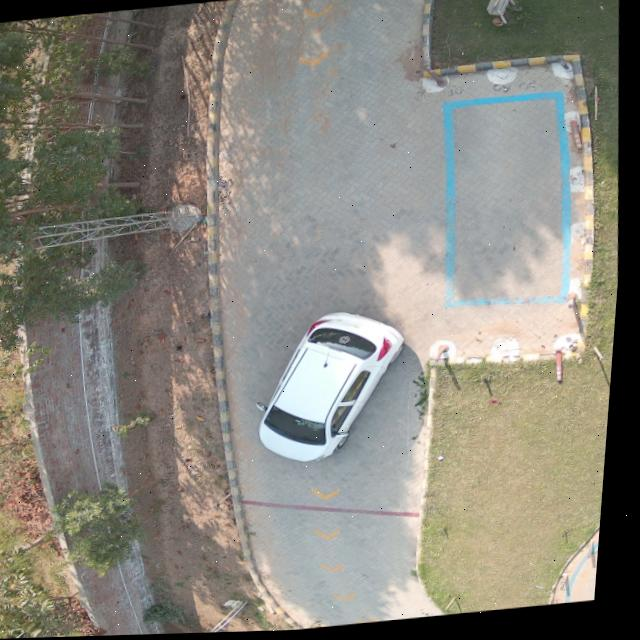car: (266, 313, 412, 463)
